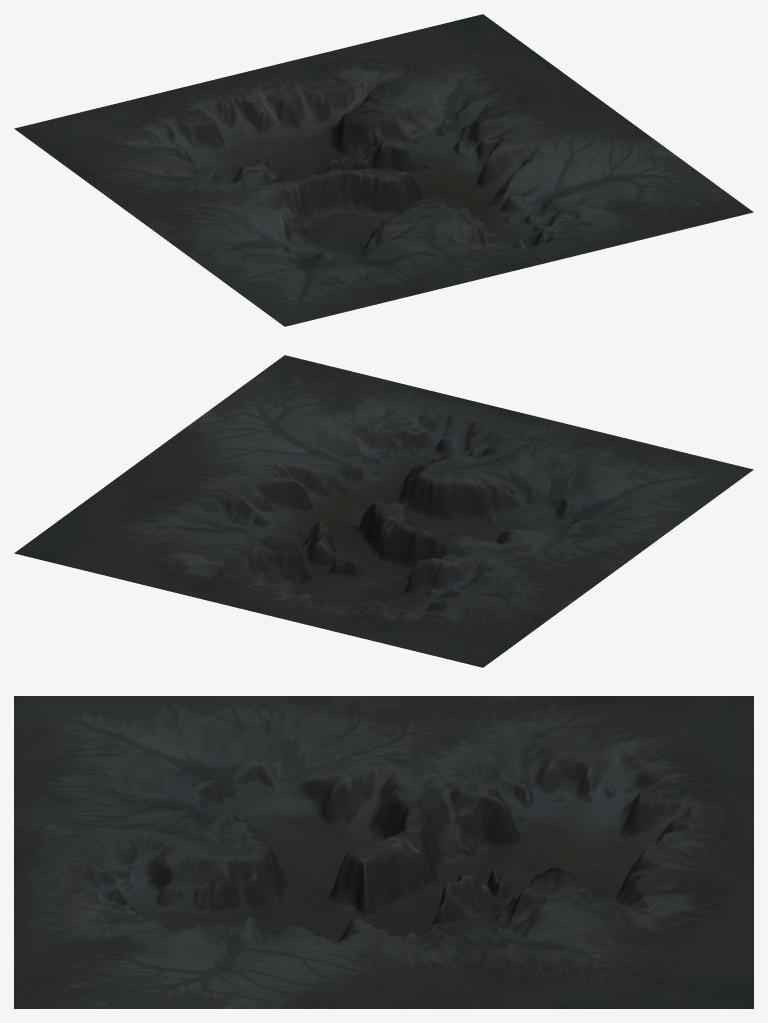
The model's file is terrain.obj.
3 renders of one model, top to bottom at view 1: azimuth 30°, elevation 25°; view 2: azimuth 150°, elevation 25°; view 3: azimuth 270°, elevation 25°, orthographic. The views are drawn at different scales.
Parts seen in each view (by area): view 1: Terrain; view 2: Terrain; view 3: Terrain.
Boxes of the visible parts, x1,y1,x2,y2 form: Terrain: (14,14,753,326); Terrain: (14,355,753,667); Terrain: (14,696,753,1008).
Bounding box in the file's own units: 562 × 35.1 × 562.
